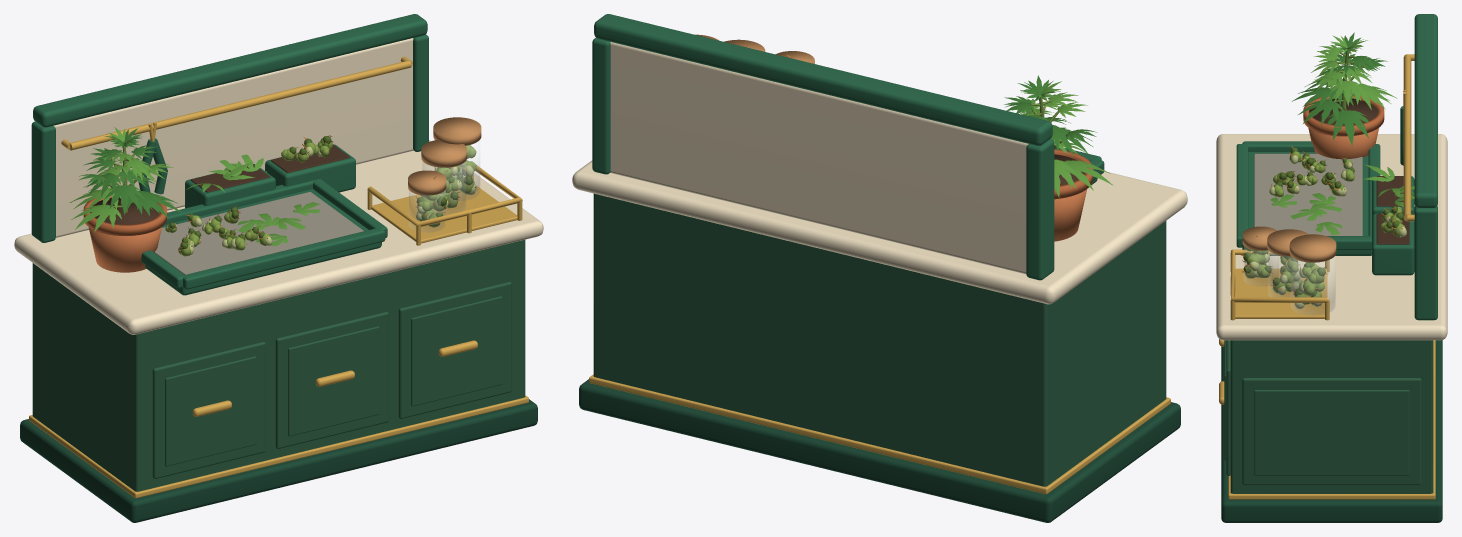
File: harvest_bench_tier2.glb
3 views of the same model, side by side, from view 1: azimuth 30°, elevation 25°; view 2: azimuth 150°, elevation 25°; view 3: azimuth 270°, elevation 25° (orthographic). The views are drawn at different scales.
Parts seen in each view (by area): view 1: Body, Upstand, Top, Plinth, UpstandCap, DrawerInset1, DrawerInset0, DrawerInset2, Screen, Drawer0, Drawer2, Drawer1 (+25 smaller); view 2: Body, Upstand, Top, Plinth, UpstandCap, BaseBrass, UpstandSide-1, UpstandSide1, PotPot; view 3: Top, EndInset, Body, Plinth, EndPanel, Screen, UpstandCap, UpstandSide1, GalleryBase, Jar2Glass, BaseBrass, Planter1 (+26 smaller).
Part boxes in pixels (x1,y1,x2,y2): Body: [32, 240, 525, 491]; Upstand: [53, 38, 413, 237]; Top: [14, 140, 543, 334]; Plinth: [20, 399, 537, 522]; UpstandCap: [33, 14, 427, 127]; DrawerInset1: [288, 326, 379, 436]; DrawerInset0: [165, 356, 256, 466]; DrawerInset2: [411, 296, 502, 406]; Screen: [154, 192, 363, 274]; Drawer0: [152, 341, 265, 478]; Drawer2: [398, 281, 511, 418]; Drawer1: [275, 311, 388, 448]; Body: [593, 193, 1166, 486]; Upstand: [610, 42, 1028, 274]; Top: [572, 160, 1187, 304]; Plinth: [579, 379, 1180, 522]; UpstandCap: [594, 14, 1052, 145]; BaseBrass: [589, 374, 1170, 494]; UpstandSide-1: [1026, 139, 1054, 280]; UpstandSide1: [592, 38, 610, 174]; PotPot: [1054, 189, 1086, 241]; Top: [1216, 134, 1447, 340]; EndInset: [1254, 390, 1409, 475]; Body: [1230, 340, 1433, 493]; Plinth: [1221, 340, 1442, 522]; EndPanel: [1242, 378, 1421, 485]; Screen: [1254, 153, 1362, 235]; UpstandCap: [1414, 14, 1437, 207]; UpstandSide1: [1414, 206, 1437, 320]; GalleryBase: [1235, 268, 1327, 318]; Jar2Glass: [1291, 256, 1335, 315]; BaseBrass: [1228, 340, 1435, 499]; Planter1: [1372, 214, 1414, 275].
Bounding box in the file's own units: 1.97 × 1.52 × 0.98.
